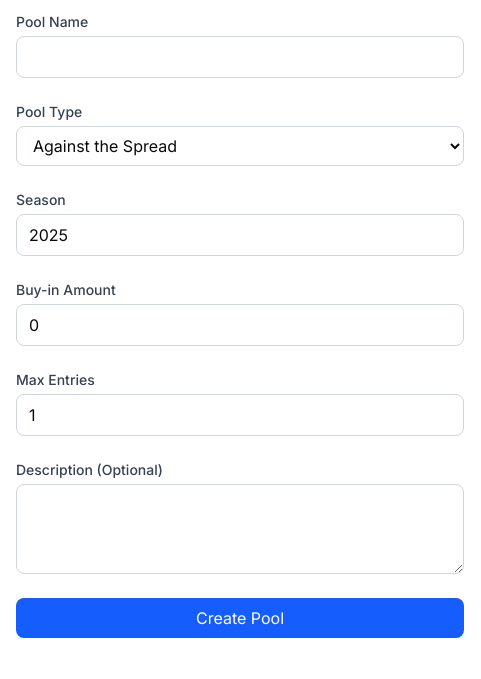
Test: PoolSetup › validates buy-in amount is not negative
The image size is (481, 679).
In the field labelled "Pool Name": (240, 57) [16,36,464,78], type "Test Pool"
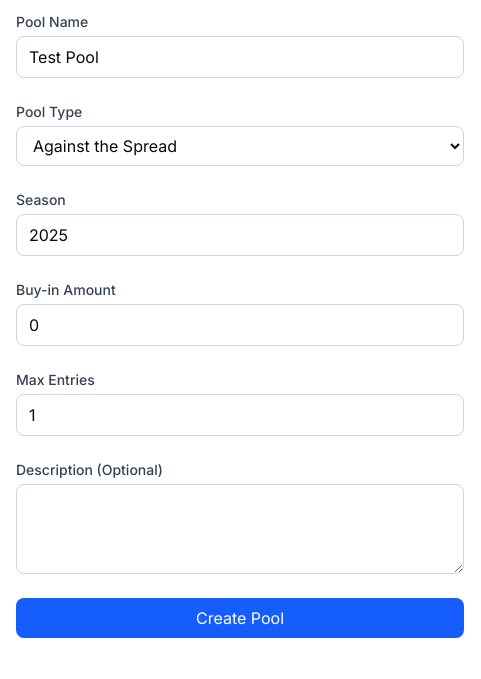
Replace the text in the number field labelled "Buy-in Amount" with "-10": (240, 325) [16,304,464,346]
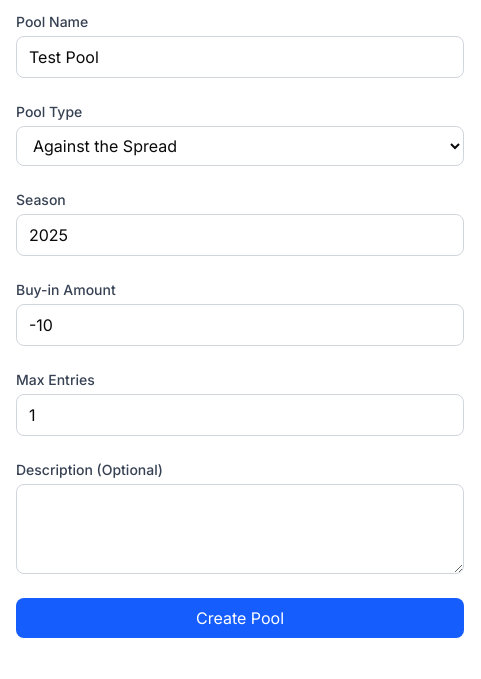
Submit the form
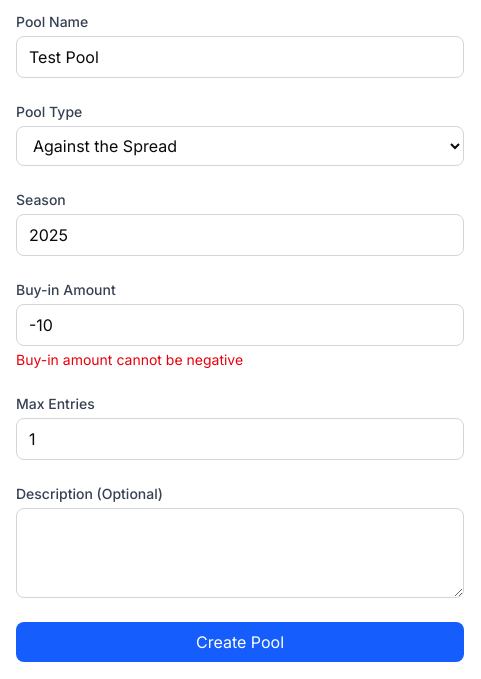
Expected: the text "Buy-in amount cannot be negative" is shown, [16,351,243,368]
